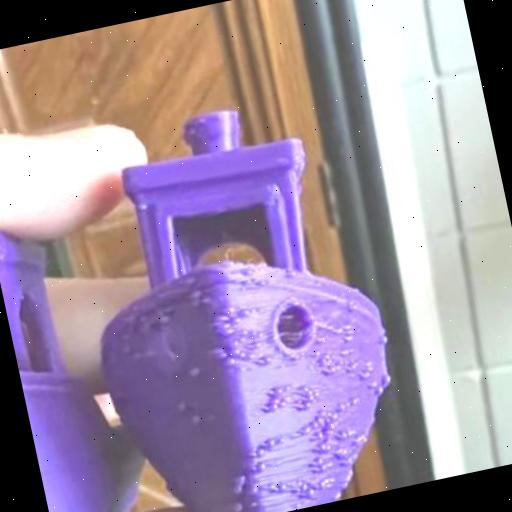blobs: (212, 308, 240, 338), (257, 391, 287, 415), (320, 412, 345, 438), (204, 339, 231, 363), (181, 362, 207, 386), (185, 285, 208, 311), (230, 474, 251, 496), (186, 408, 208, 429), (309, 450, 330, 471), (300, 380, 318, 400), (300, 412, 320, 430), (245, 444, 266, 461), (274, 380, 296, 395), (235, 302, 252, 320), (338, 316, 355, 334), (376, 372, 394, 388), (256, 352, 276, 366), (317, 405, 333, 422), (264, 433, 280, 450), (229, 498, 248, 512), (340, 398, 356, 414), (242, 264, 258, 278), (368, 375, 380, 392), (340, 329, 354, 343), (258, 461, 270, 475)
